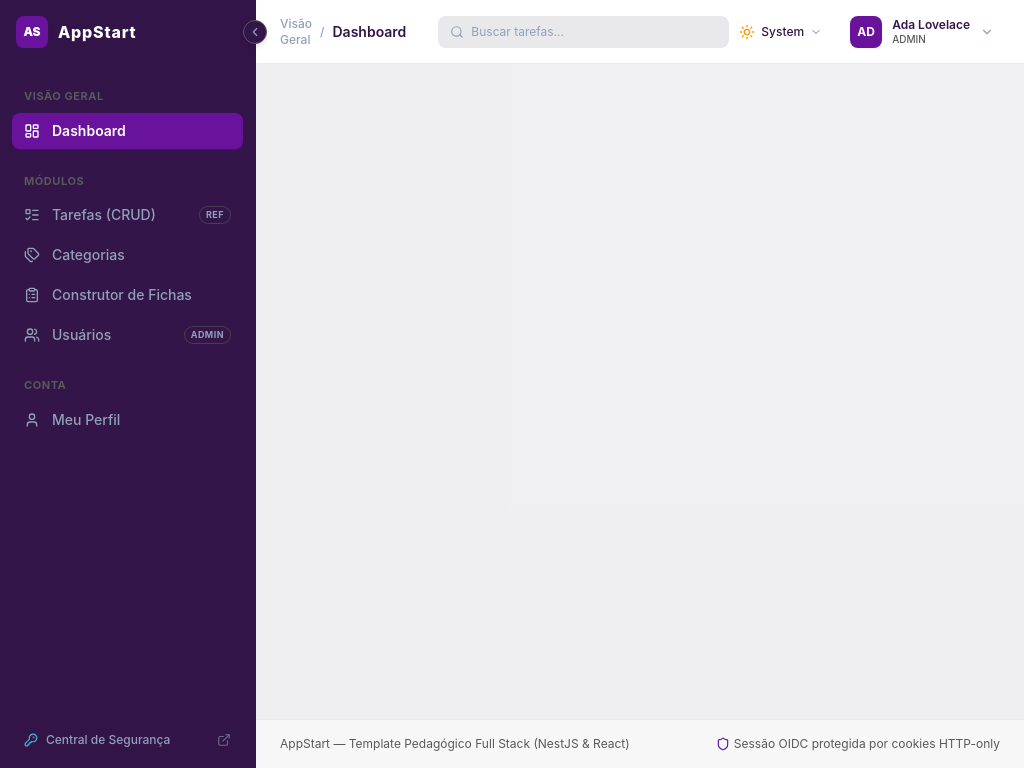
Test case: AuthLayout › renders categorized sidebar and opens user dropdown in header
This screenshot has width=1024, height=768.
Expected: the text "AppStart" is shown, [58,22,136,42]
Expected: the text "Tarefas (CRUD)" is shown, [52,205,156,225]
Open dropdown
Click the button with aria-label "Menu do usuário": (922, 32) [844,10,1000,54]
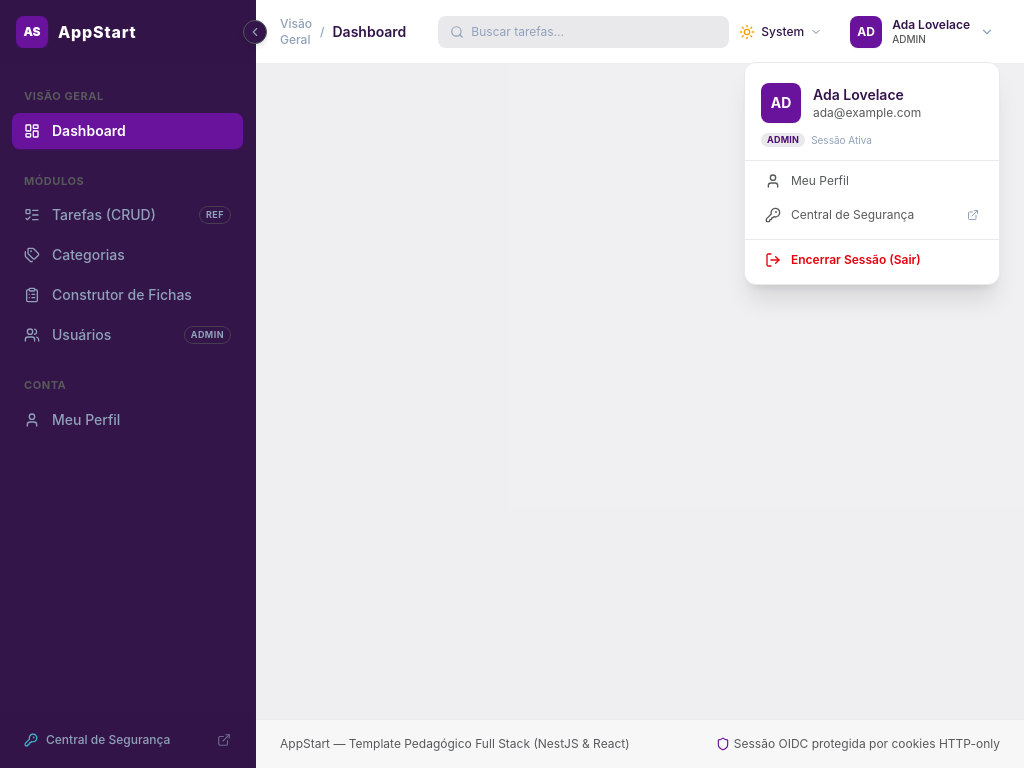
Expected: the text "ada@example.com" is shown, [813,104,921,120]
Expected: the text "Encerrar Sessão (Sair)" is shown, [791,252,921,268]
